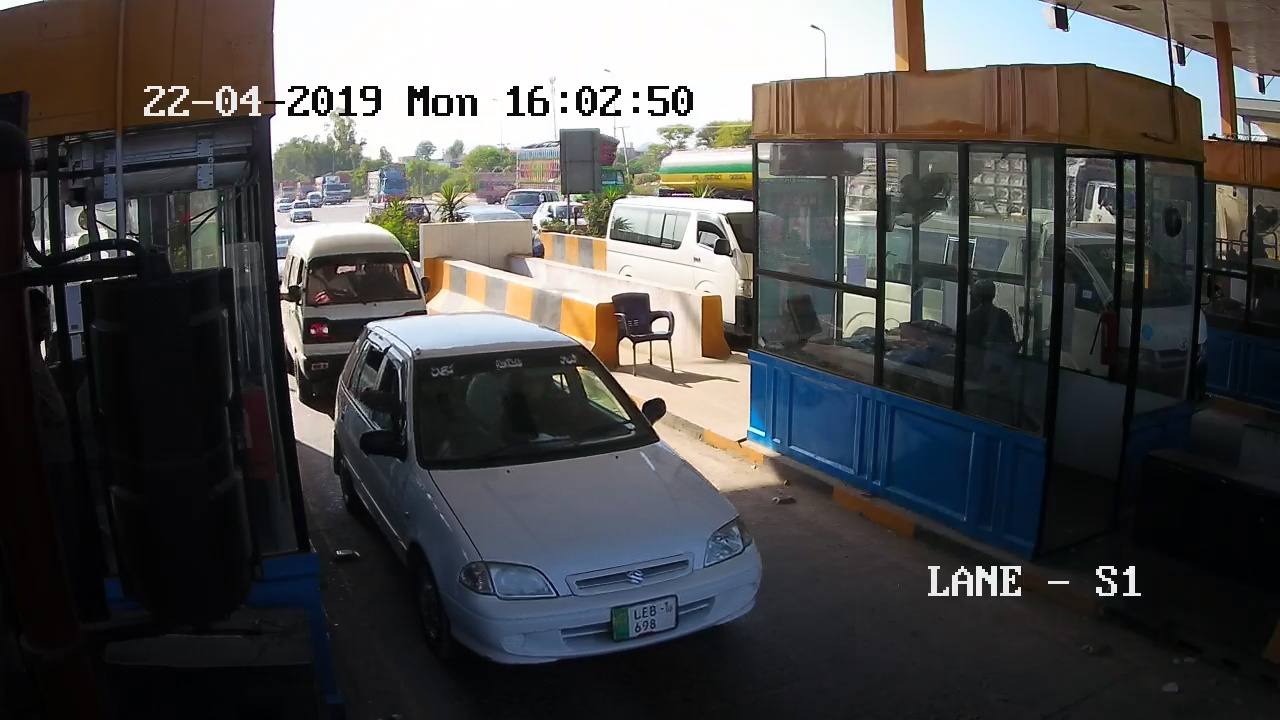car: (347, 346, 806, 711), (286, 239, 421, 320)
